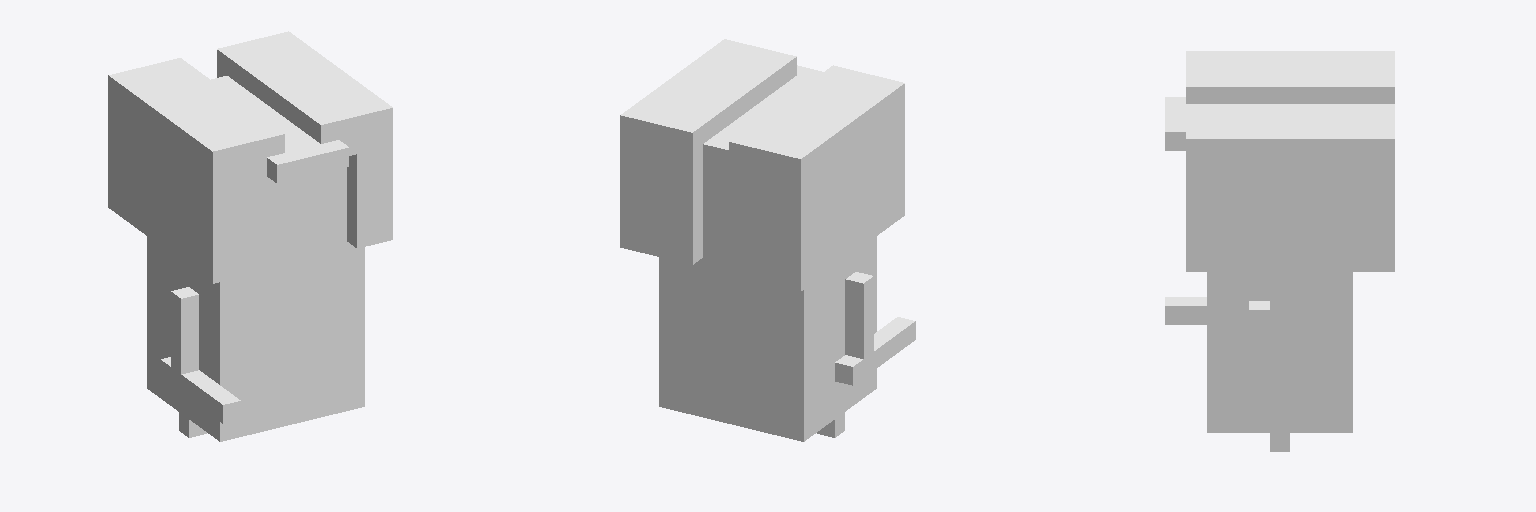
The model's file is DarkMan.obj.
3 views of the same model, side by side, from view 1: azimuth 30°, elevation 25°; view 2: azimuth 150°, elevation 25°; view 3: azimuth 270°, elevation 25° (orthographic).
Size of the model in its own units: 10 by 17 by 11.